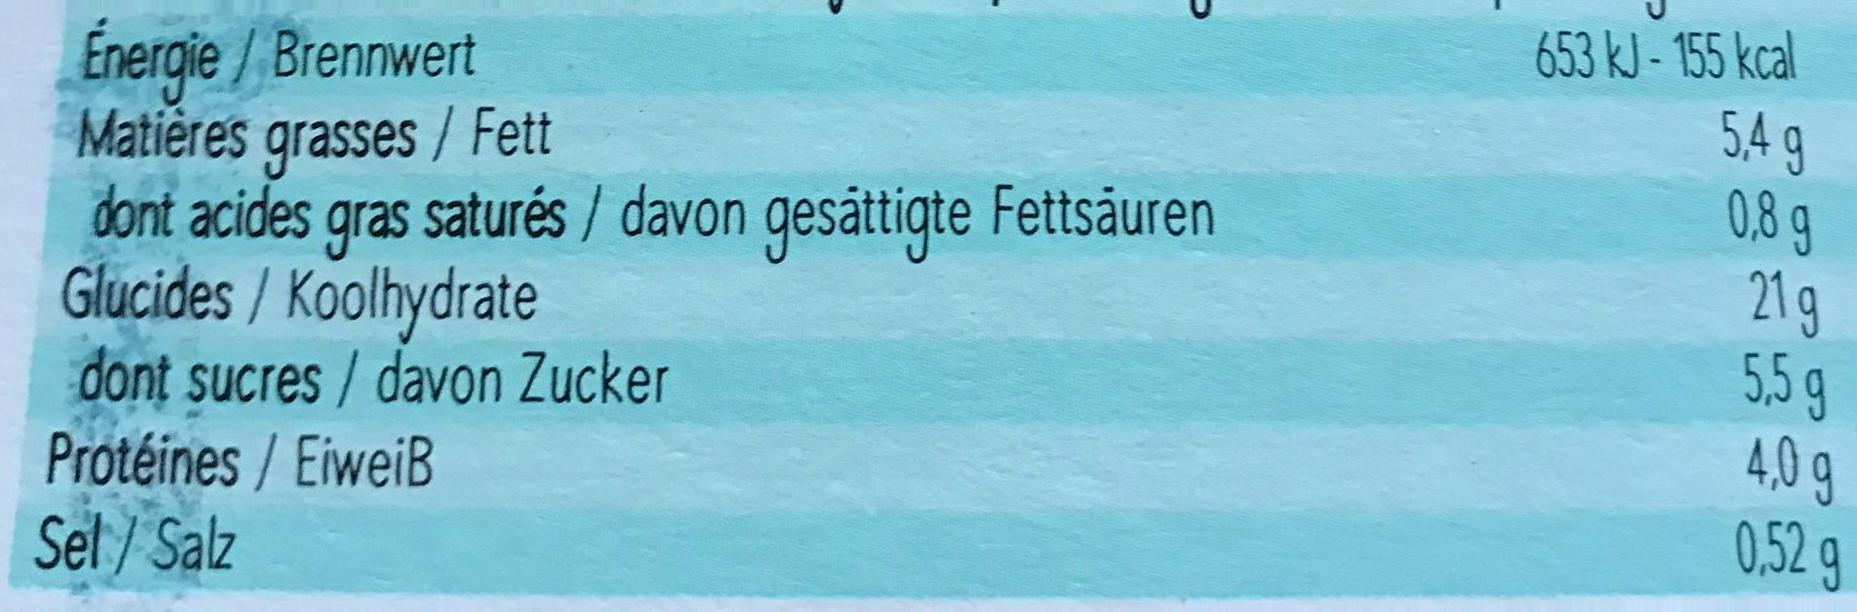column: (36, 17, 1219, 576), (1529, 30, 1839, 593)
line: (36, 513, 1840, 591), (58, 259, 1821, 334), (47, 431, 1832, 501), (62, 344, 1829, 414), (75, 107, 1807, 170), (85, 188, 1814, 250), (82, 22, 1803, 83)
table: (28, 2, 1850, 604)
